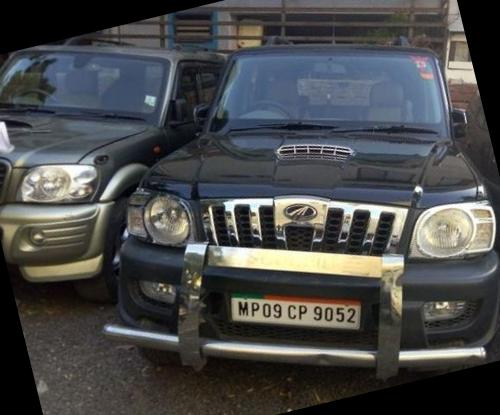plate: (219, 241, 394, 384)
